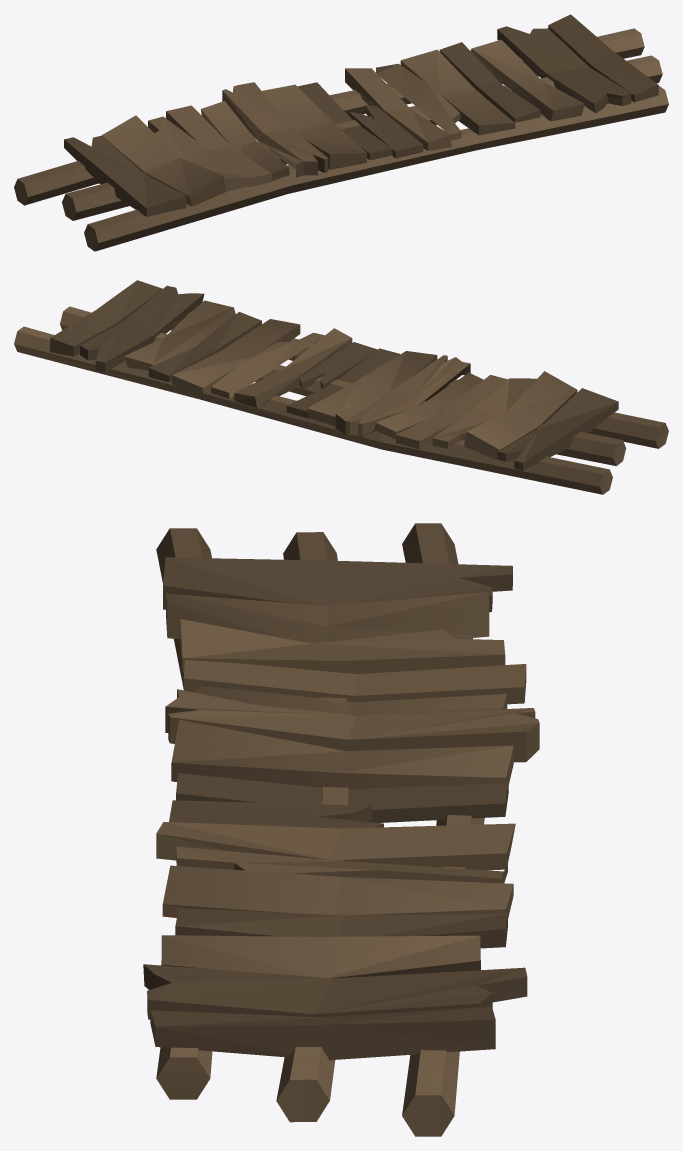
File: ZLP_Build_F_4.FBX
3 renders of one model, top to bottom at view 1: azimuth 30°, elevation 25°; view 2: azimuth 150°, elevation 25°; view 3: azimuth 270°, elevation 25°, orthographic. The views are drawn at different scales.
Parts seen in each view (by area): view 1: ZLP_Build_F_4; view 2: ZLP_Build_F_4; view 3: ZLP_Build_F_4.
Boxes of the visible parts, <box> form: ZLP_Build_F_4: <box>14,14,668,251</box>; ZLP_Build_F_4: <box>14,280,668,494</box>; ZLP_Build_F_4: <box>143,523,539,1136</box>.
Bounding box in the file's own units: 485 × 33.94 × 142.
